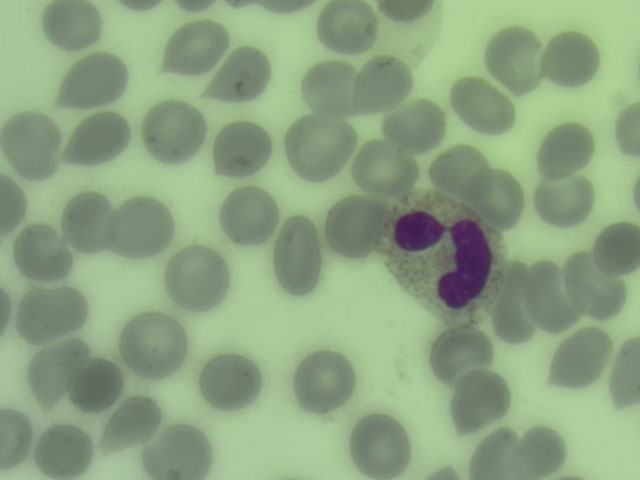RBC: (269, 210, 324, 297), (524, 253, 578, 337), (488, 255, 533, 346), (566, 244, 618, 320), (211, 119, 276, 178), (292, 347, 353, 408), (450, 368, 511, 429), (432, 323, 493, 384), (348, 416, 409, 477), (322, 195, 383, 256), (198, 350, 259, 411), (464, 166, 525, 227), (426, 138, 487, 199), (537, 117, 598, 178), (539, 31, 600, 92), (484, 26, 545, 87), (383, 94, 444, 155), (355, 136, 416, 197), (288, 116, 349, 177), (353, 51, 414, 112), (300, 56, 361, 117), (216, 184, 277, 245), (214, 44, 275, 105), (160, 17, 221, 78), (144, 99, 205, 160), (166, 249, 227, 310), (112, 194, 173, 255), (58, 192, 119, 253), (148, 419, 209, 480), (101, 394, 162, 455), (120, 314, 181, 375), (63, 353, 124, 414), (32, 419, 93, 480), (23, 344, 84, 405), (23, 281, 84, 342), (12, 219, 73, 280), (67, 107, 128, 168), (60, 48, 121, 109), (461, 419, 522, 480), (548, 328, 609, 389), (535, 170, 596, 231), (512, 424, 577, 480), (1, 112, 60, 173), (314, 1, 381, 54), (451, 81, 512, 138), (595, 338, 640, 414), (42, 1, 106, 53), (589, 221, 640, 277), (608, 97, 640, 161), (1, 407, 34, 469), (1, 177, 32, 238)
WBC: (390, 191, 498, 318)
